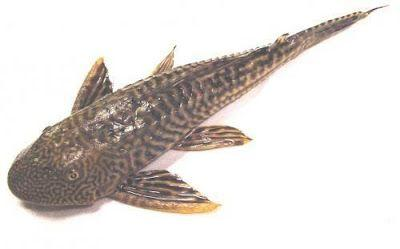Janitor Fish: (8, 4, 390, 214)
